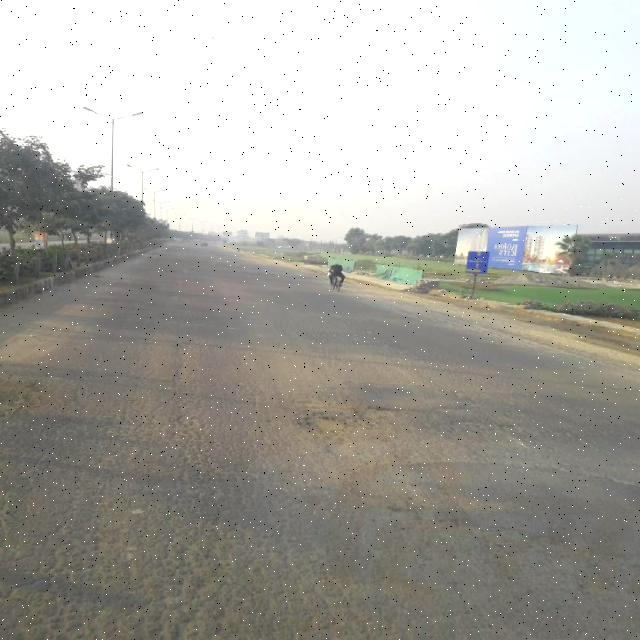D20: (18, 326, 534, 628)
D40: (290, 392, 562, 445)
